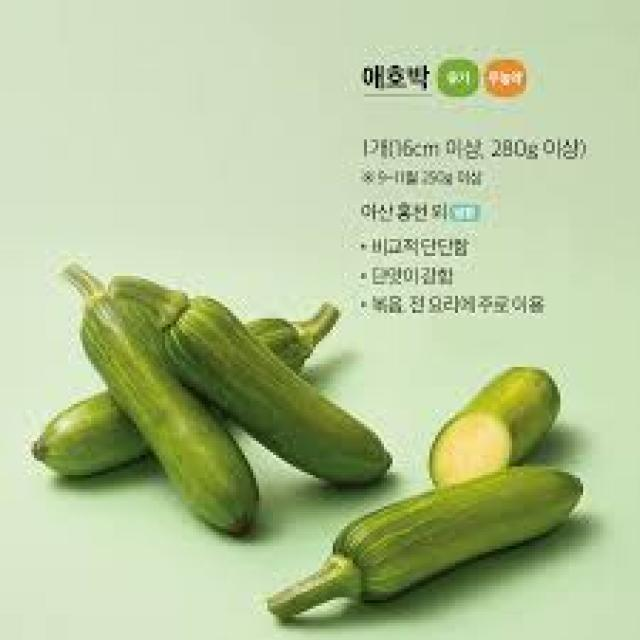Yogurt cup: (110, 272, 393, 486), (271, 469, 587, 622)
